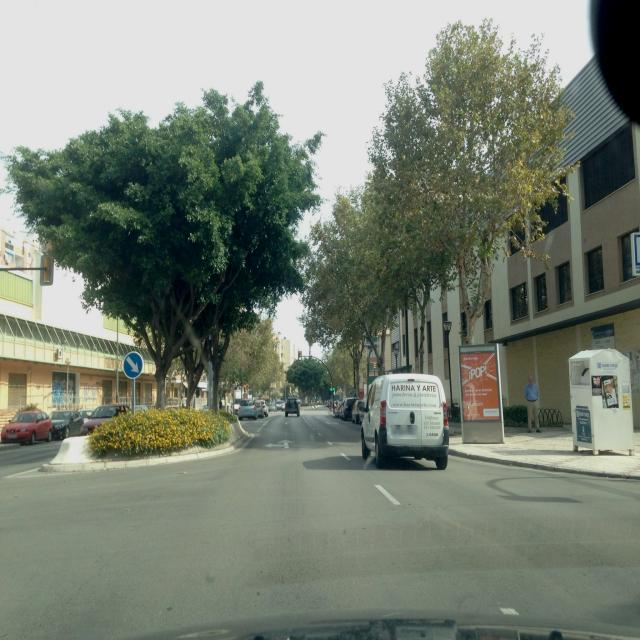car: (360, 372, 450, 470), (1, 409, 54, 446), (82, 403, 132, 438), (49, 409, 83, 440), (237, 399, 258, 421), (340, 397, 358, 421), (77, 408, 95, 428), (352, 399, 366, 424), (284, 397, 300, 418), (132, 404, 150, 416), (254, 399, 265, 418), (333, 401, 344, 417), (274, 398, 285, 412)
